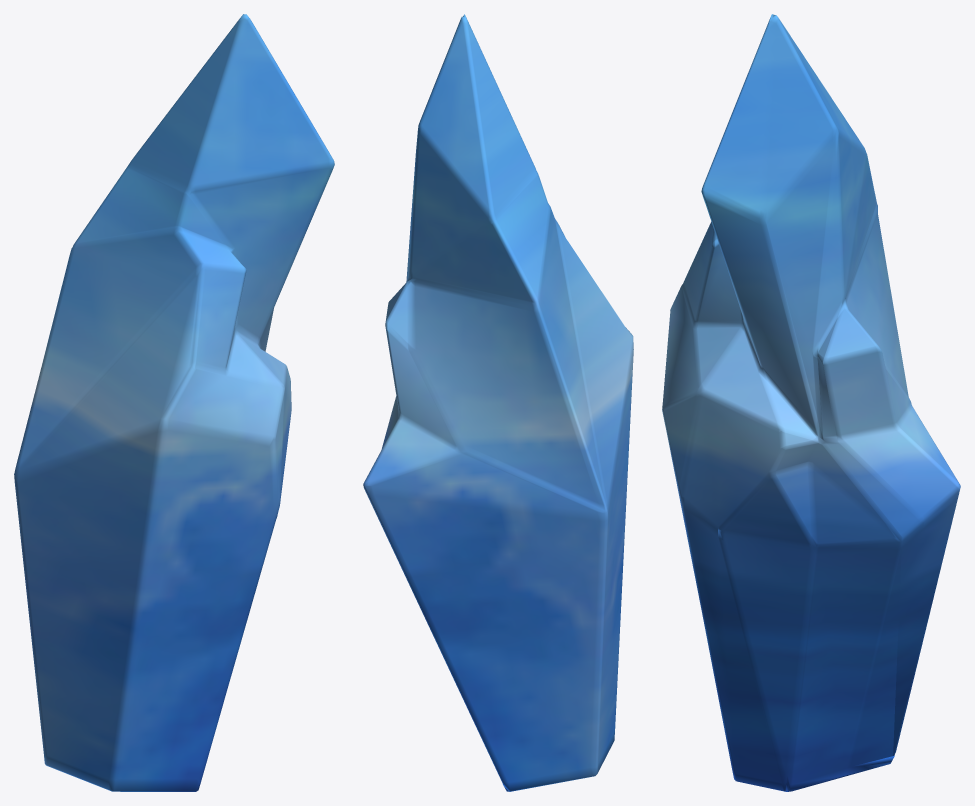
The model's file is shuijing_1.fbx.
3 views of the same model, side by side, from view 1: azimuth 30°, elevation 25°; view 2: azimuth 150°, elevation 25°; view 3: azimuth 270°, elevation 25° (orthographic). The views are drawn at different scales.
Parts seen in each view (by area): view 1: shuijing:Object26; view 2: shuijing:Object26; view 3: shuijing:Object26.
Part boxes in pixels (box(x1,y1,x2,y2)): shuijing:Object26: box(14, 14, 334, 791); shuijing:Object26: box(363, 14, 633, 791); shuijing:Object26: box(662, 14, 960, 791).
Size of the model in its own units: 56.38 by 164 by 55.1.
